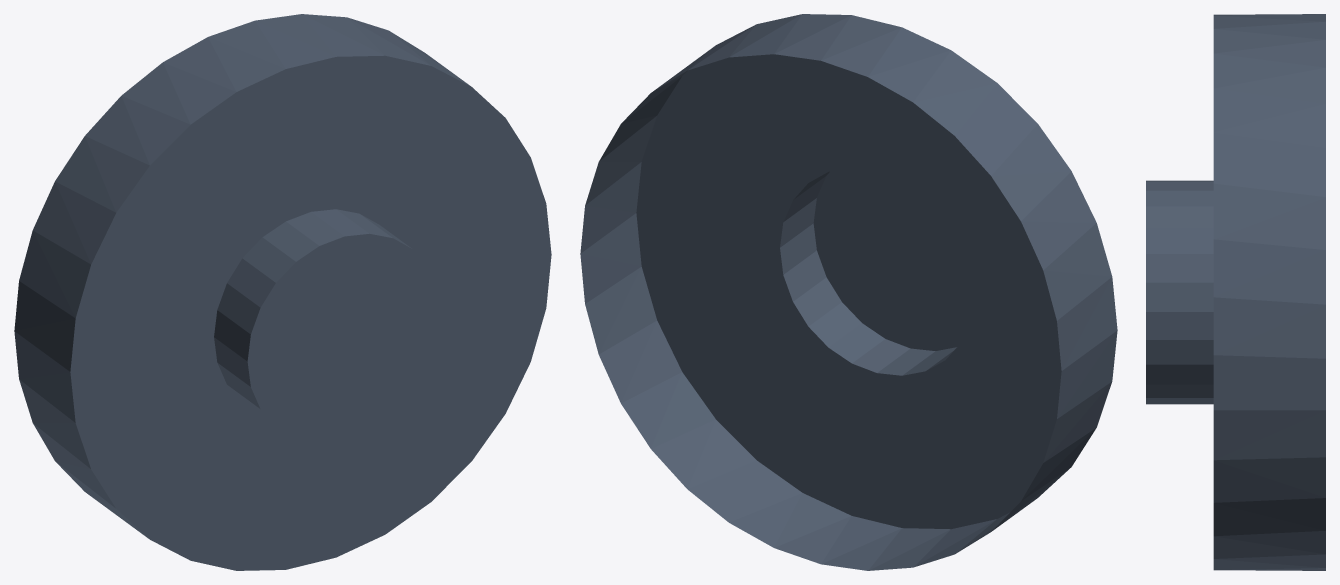
File: iswap_rotation_collar.glb
3 views of the same model, side by side, from view 1: azimuth 30°, elevation 25°; view 2: azimuth 150°, elevation 25°; view 3: azimuth 270°, elevation 25° (orthographic).
Parts seen in each view (by area): view 1: ISwap.001; view 2: ISwap.001; view 3: ISwap.001.
Part boxes in pixels (x1=…): ISwap.001: x1=14, y1=14, x2=551, y2=570; ISwap.001: x1=580, y1=14, x2=1117, y2=570; ISwap.001: x1=1146, y1=14, x2=1325, y2=570.
Size of the model in its own units: 0.0248 by 0.0248 by 0.008.
